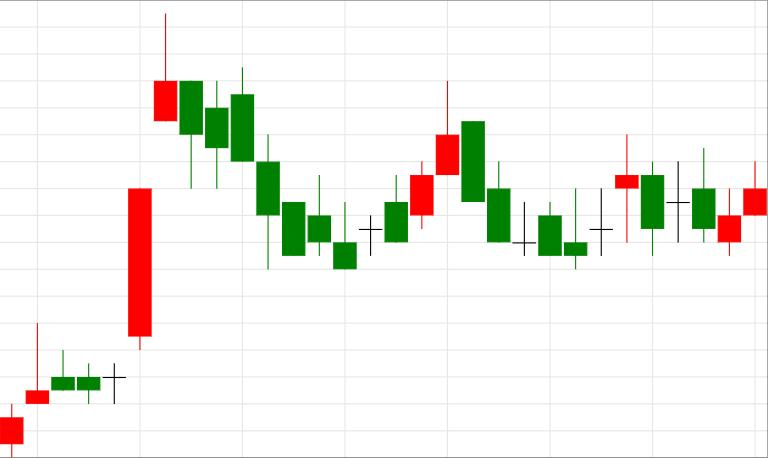inverse_hammer_rise: (179, 67, 356, 269), (179, 66, 331, 269)
shooting_star_fall: (1, 13, 177, 457), (333, 79, 459, 269)
